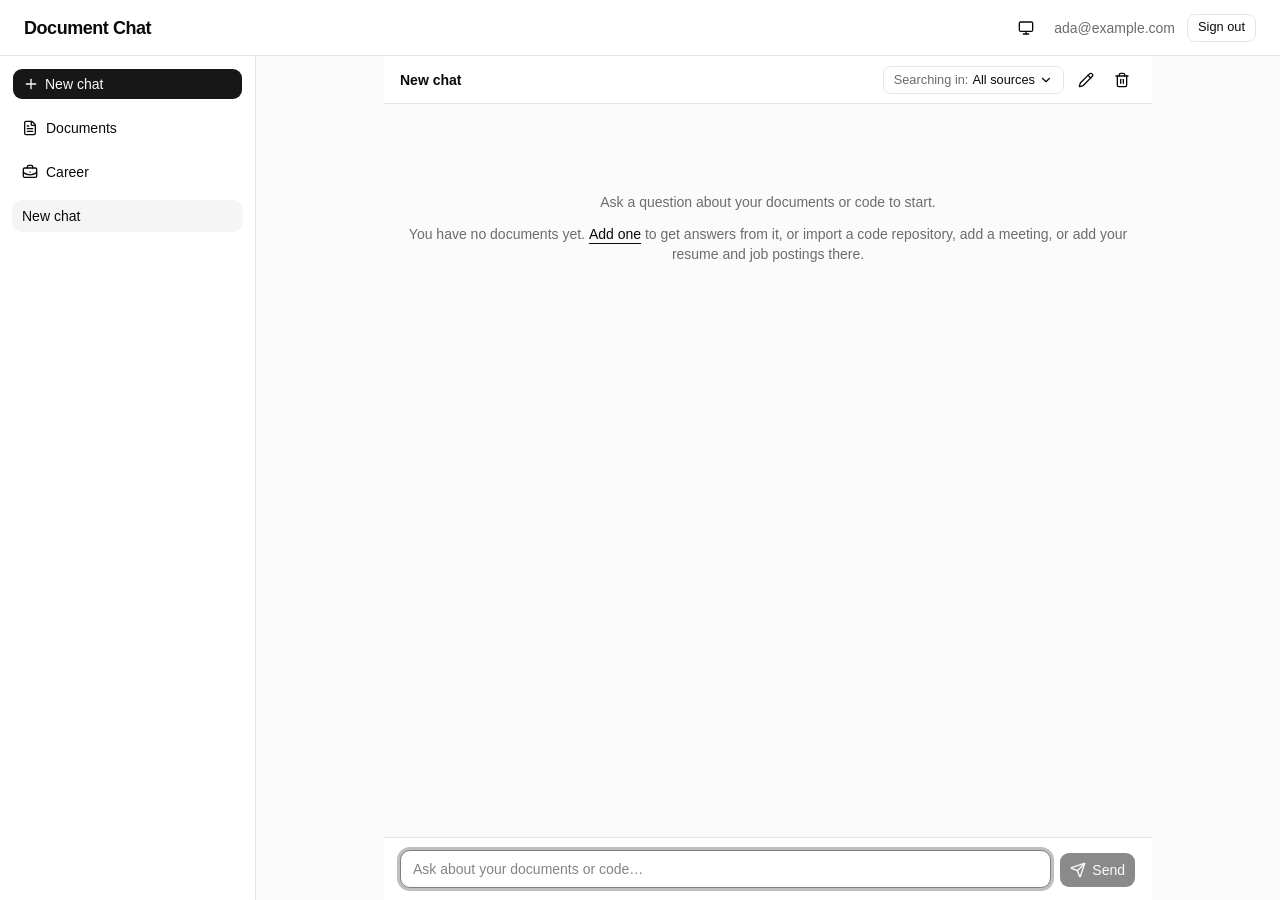
Test: chat view › asking a question › shows the question, then the streamed answer with its sources
In the text box named "Your question": coordinates (726, 869) left=400, top=850, right=1051, bottom=888, type "What is HNSW?"
Then press Enter
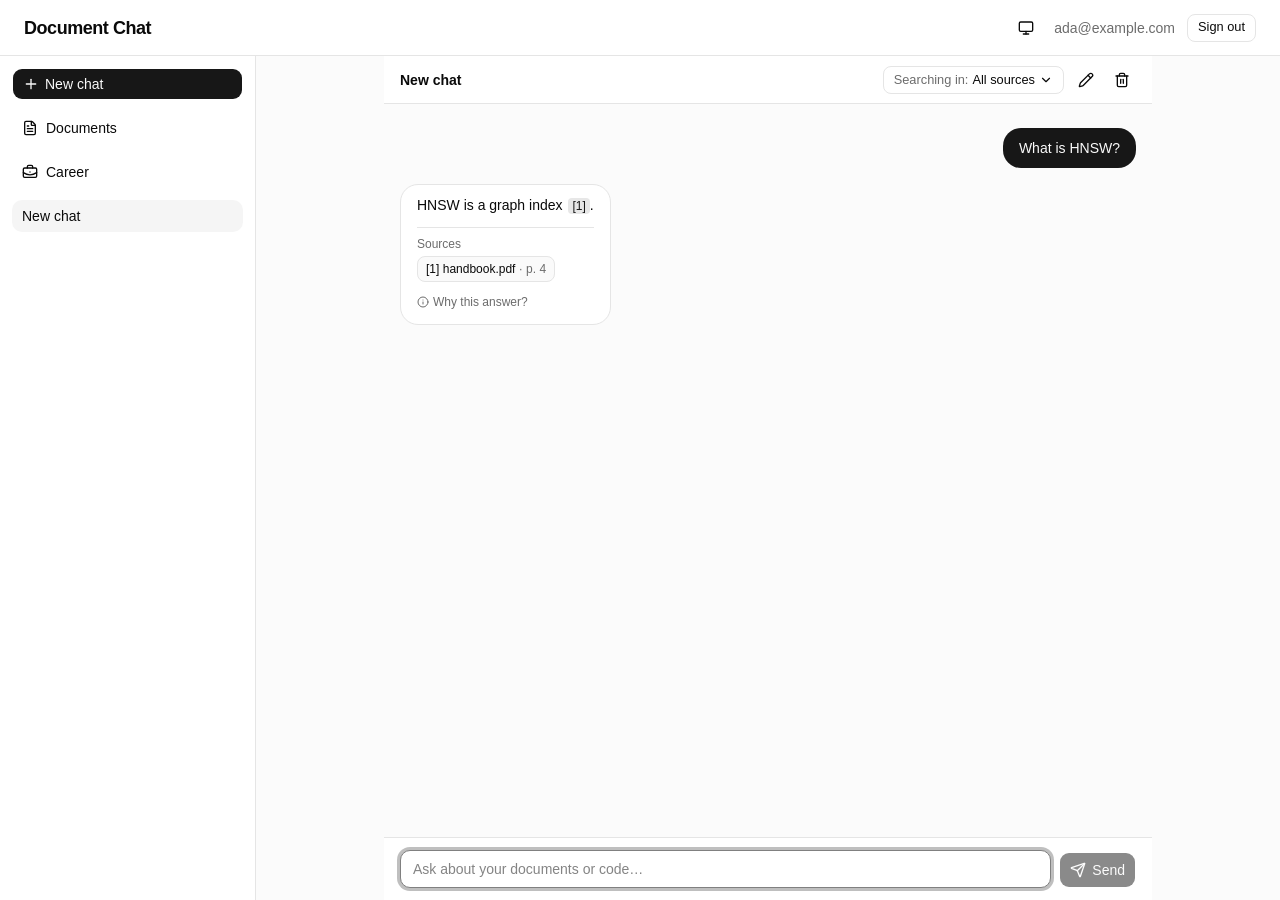
expect the text "What is HNSW?" is shown: met, box left=1019, top=138, right=1120, bottom=158
expect the button "[1] handbook.pdf · p. 4" is shown: met, box left=417, top=256, right=555, bottom=282
expect the text "· p. 4" is shown: met, box left=516, top=262, right=546, bottom=276
